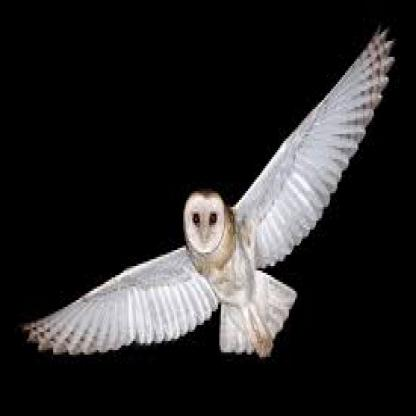owl: (20, 84, 414, 414)
